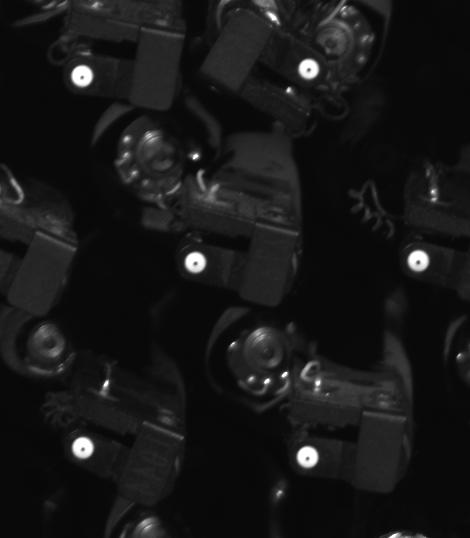fiber: (291, 439, 329, 476), (178, 244, 216, 279), (400, 244, 440, 277), (65, 60, 102, 94), (65, 431, 102, 463), (295, 52, 326, 88)
